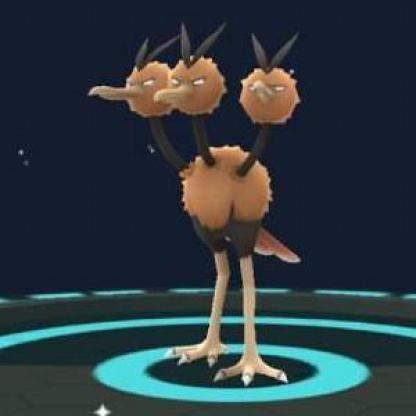Dodrio: (81, 25, 342, 382)
